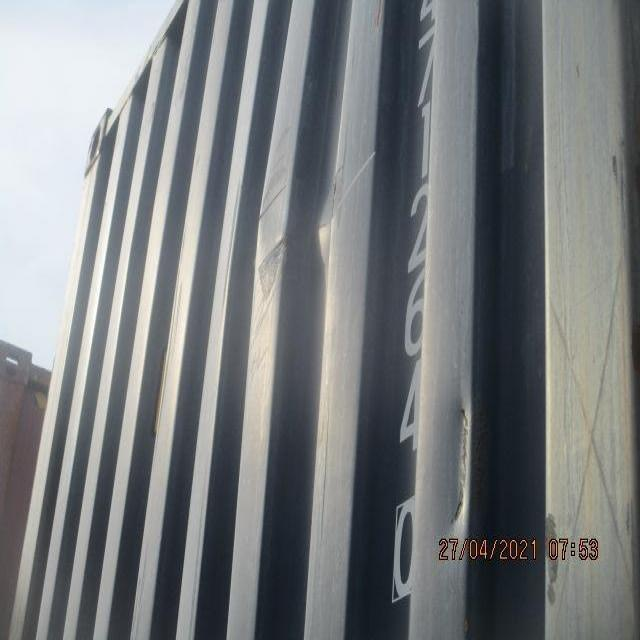Minor-Dent: (225, 144, 377, 308)
